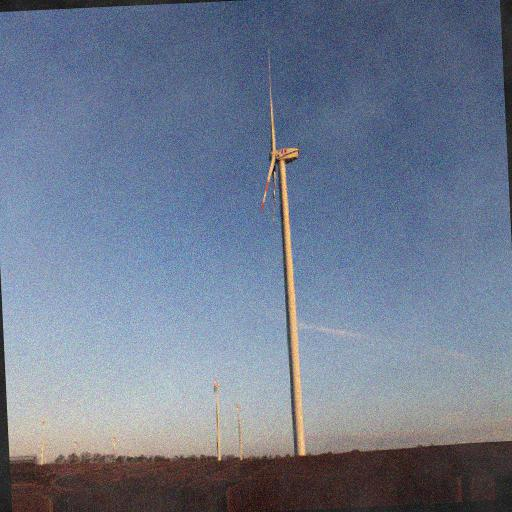wind turbine: (258, 44, 306, 461)
